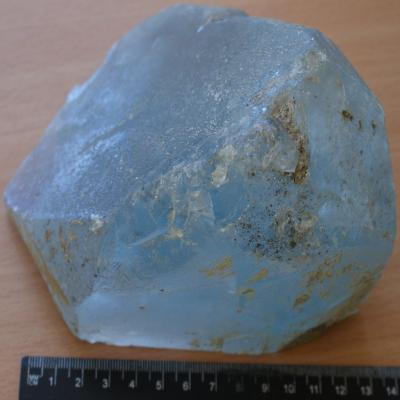mineralogy: (4, 5, 397, 357)
